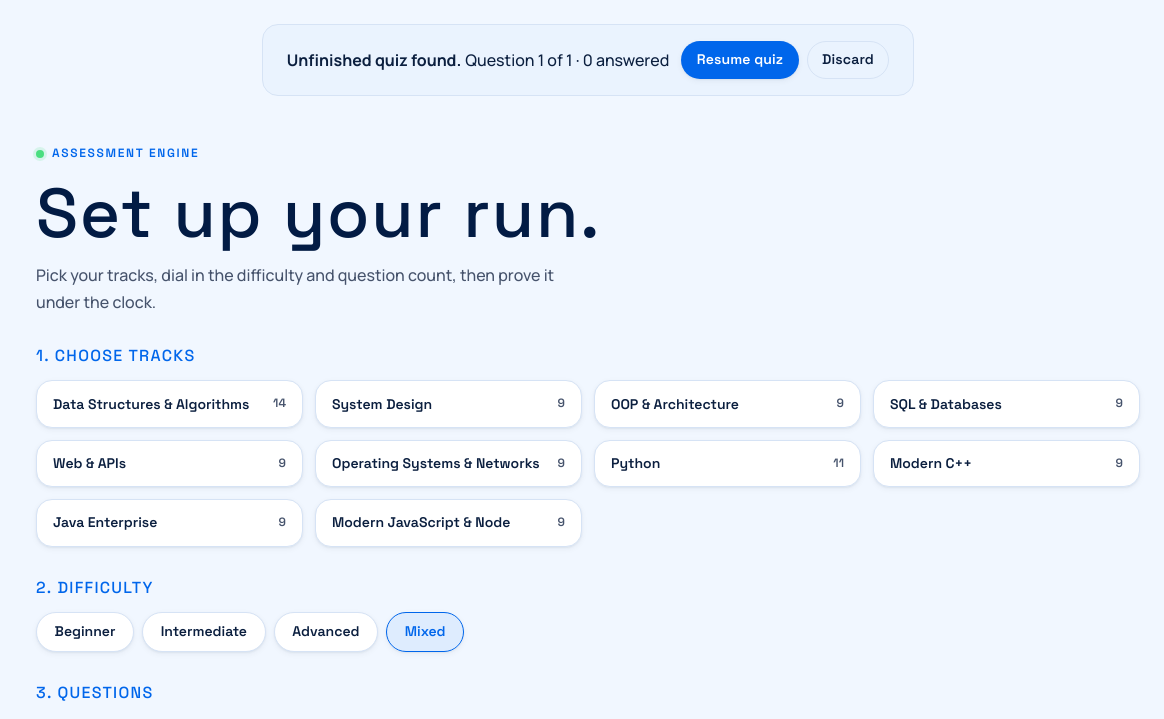
Test: practice session recovery › offers to resume an unfinished quiz
expect the text "Unfinished quiz found." is shown: met, box top-left (287, 47), bottom-right (461, 73)
Click the button "Resume quiz": (740, 60) top-left (681, 41), bottom-right (799, 79)
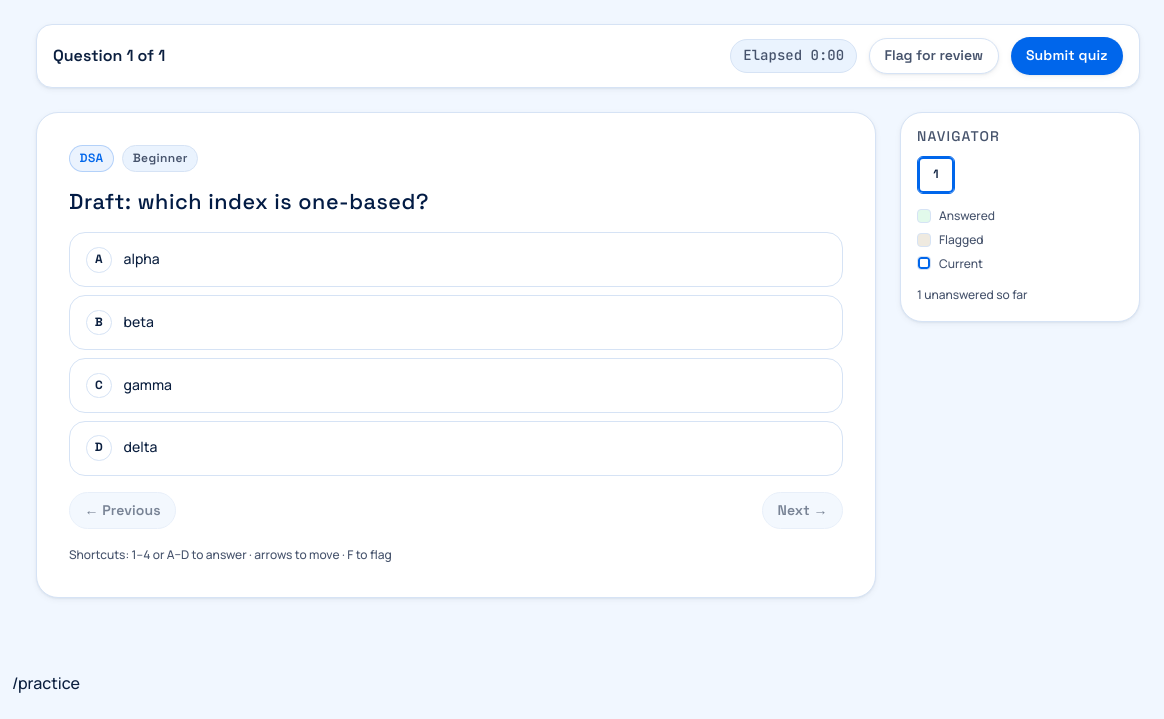
expect the heading "Draft: which index is one-based?" is shown: met, box top-left (69, 188), bottom-right (429, 215)
expect the button "Submit quiz" is shown: met, box top-left (1010, 37), bottom-right (1123, 75)
